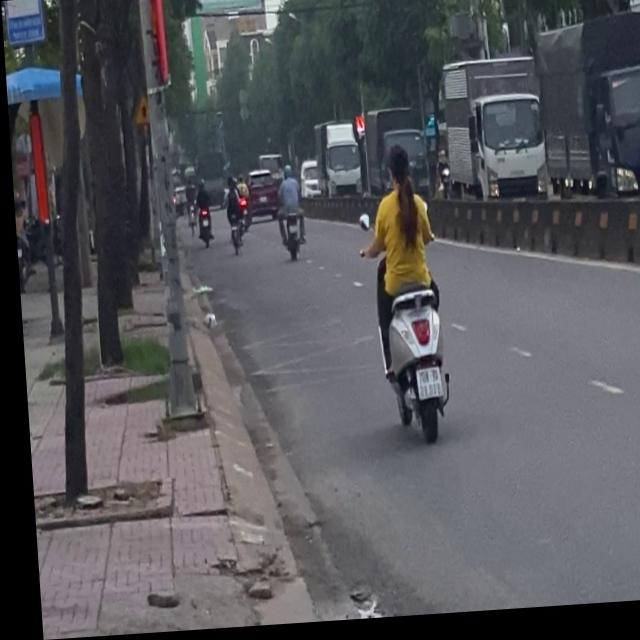licenseplate: (359, 144, 449, 448)
motorcyclist: (383, 145, 412, 206)
nohelmet: (410, 371, 437, 404)
